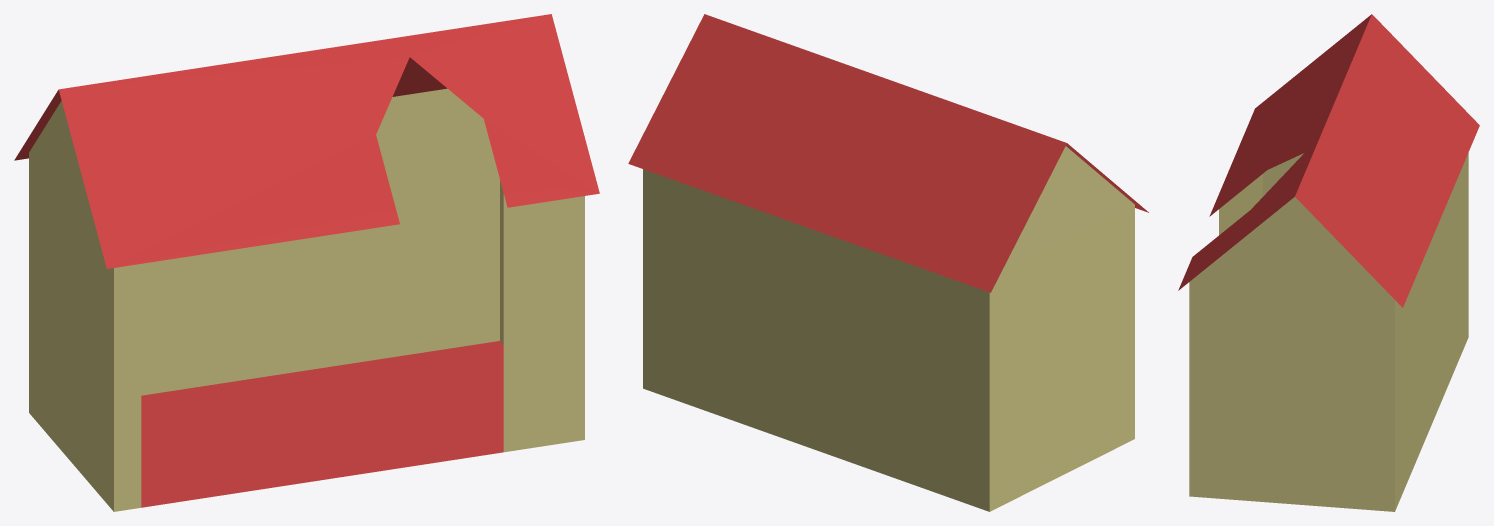
The picture shows the model from 3 angles, left to right: view 1: azimuth 30°, elevation 25°; view 2: azimuth 150°, elevation 25°; view 3: azimuth 270°, elevation 25°; orthographic projection. The views are drawn at different scales.
Size of the model in its own units: 24.07 by 15.39 by 17.54.
